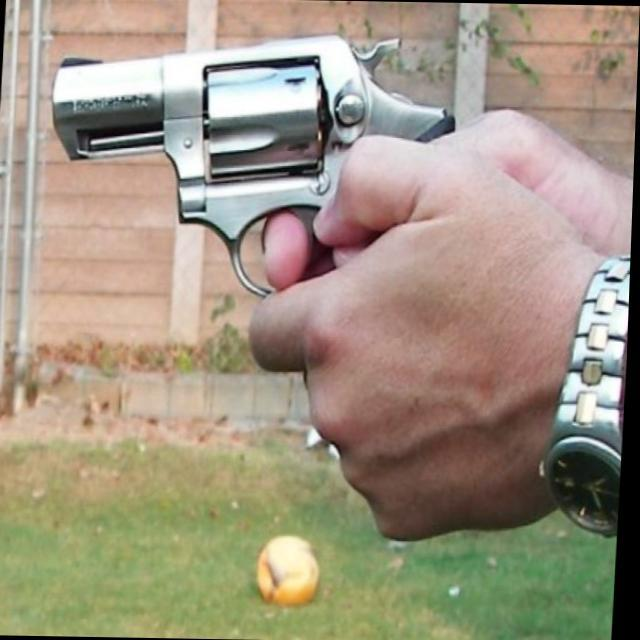weapon: (39, 40, 480, 323)
